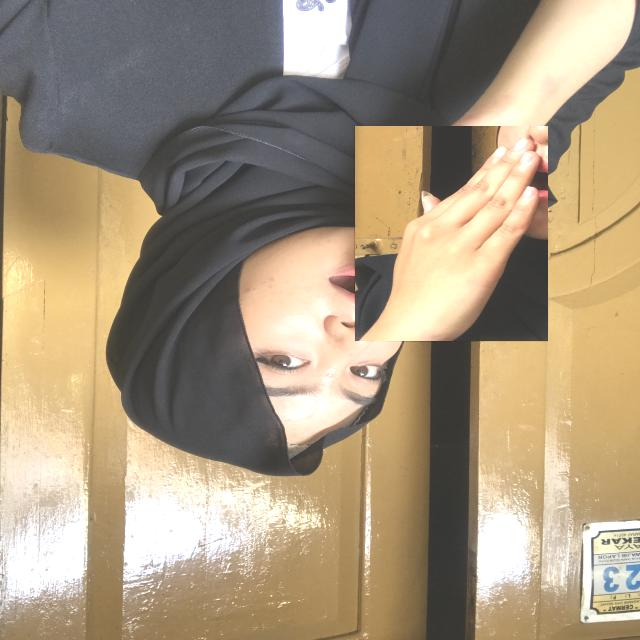ngantuk: (354, 126, 548, 342)
